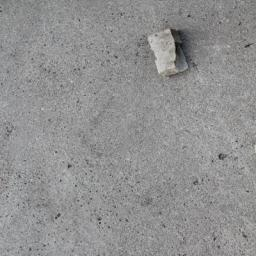FOD: (145, 28, 197, 80)
